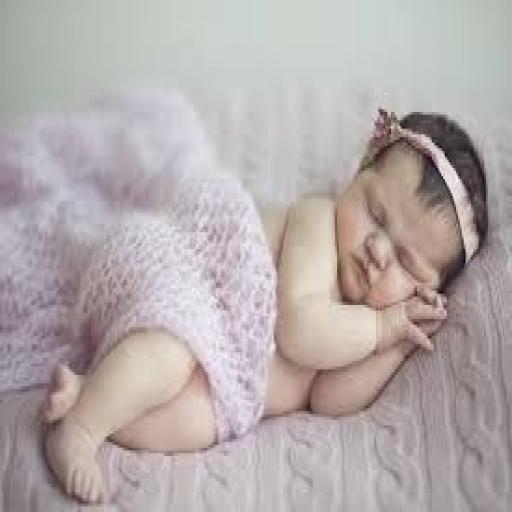sleeping: (37, 104, 490, 504)
